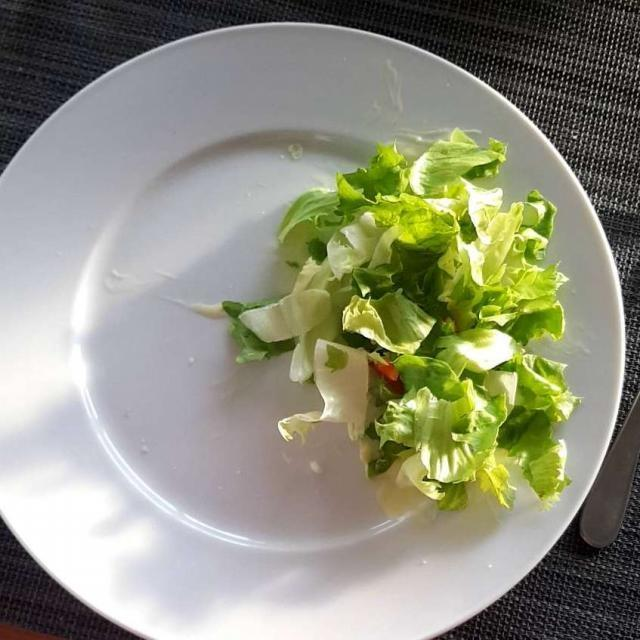salad: (204, 139, 566, 510)
